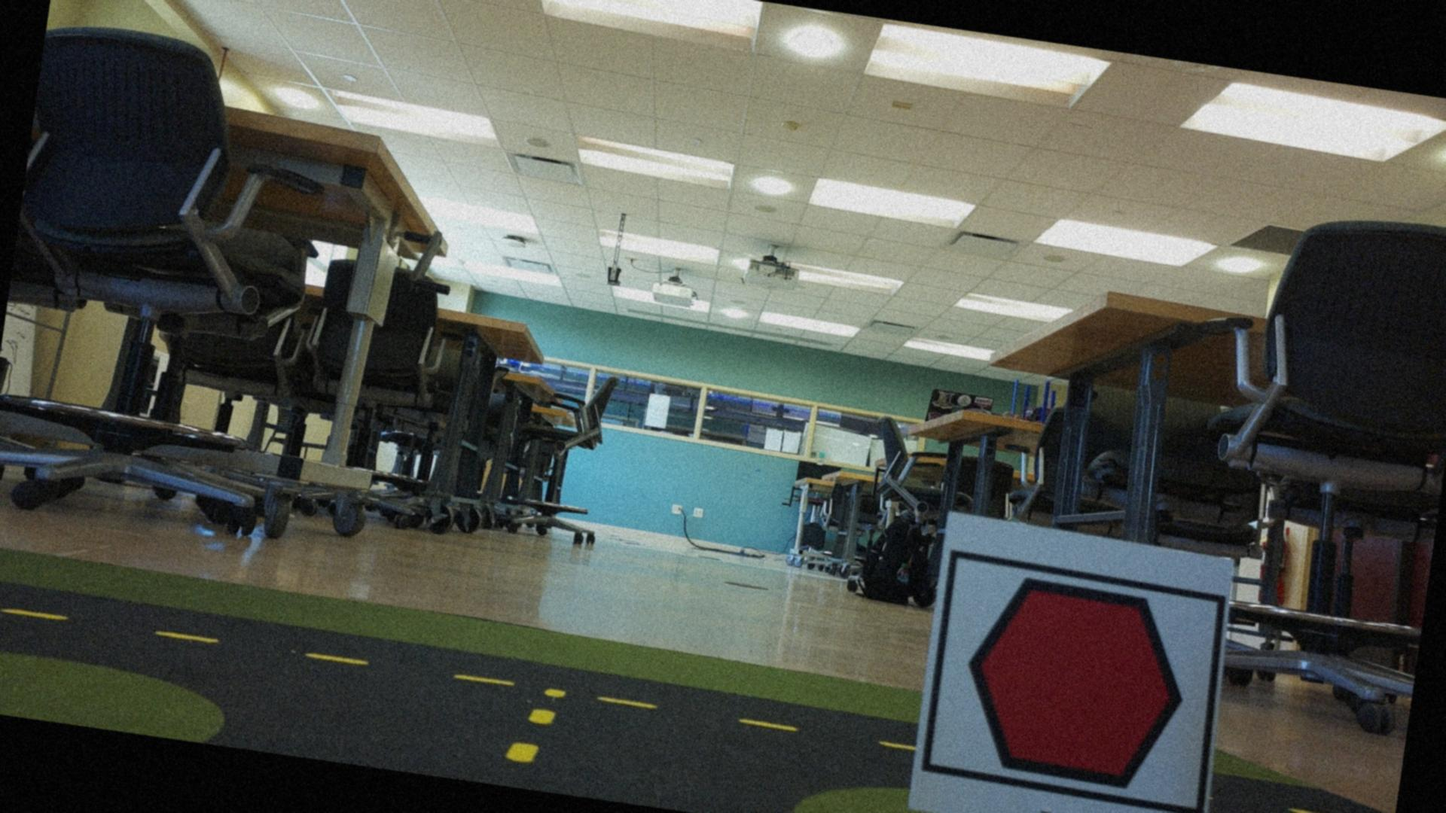stop: (940, 564, 1213, 802)
yellowline: (505, 681, 565, 769)
